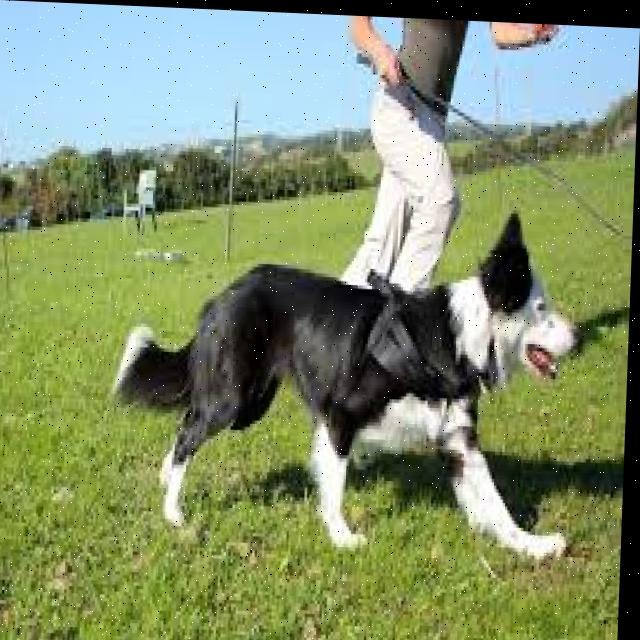BORDER_COLLIE: (99, 201, 595, 576)
